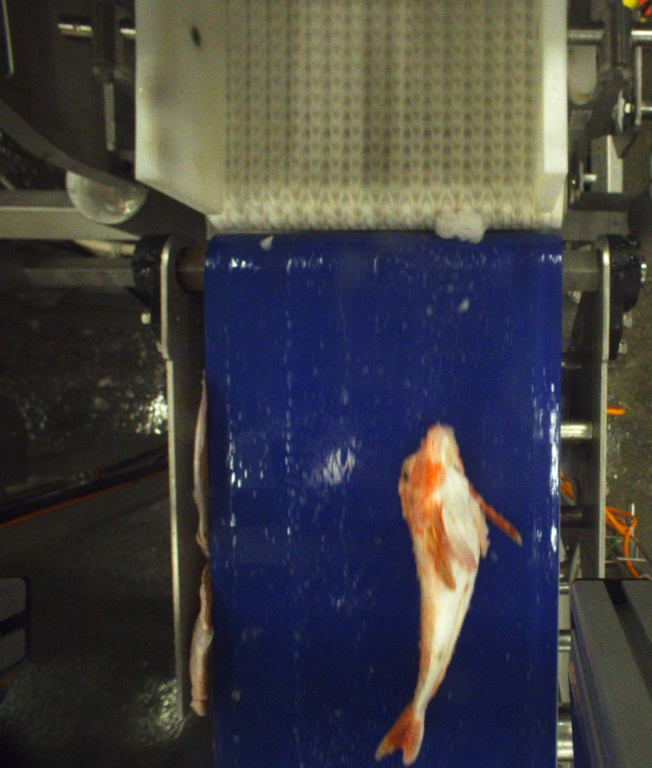GUU: (380, 418, 521, 767)
